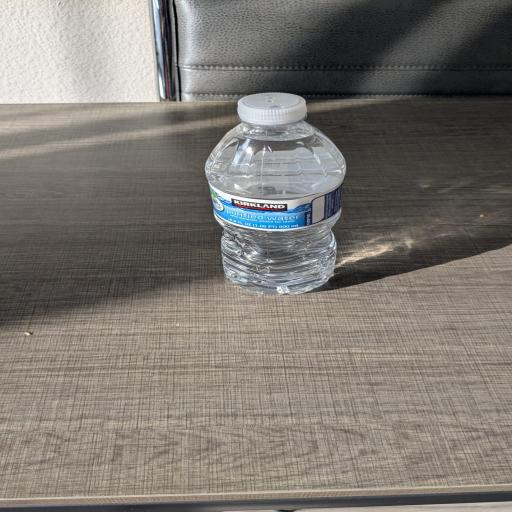waterbottle: (206, 93, 345, 294)
